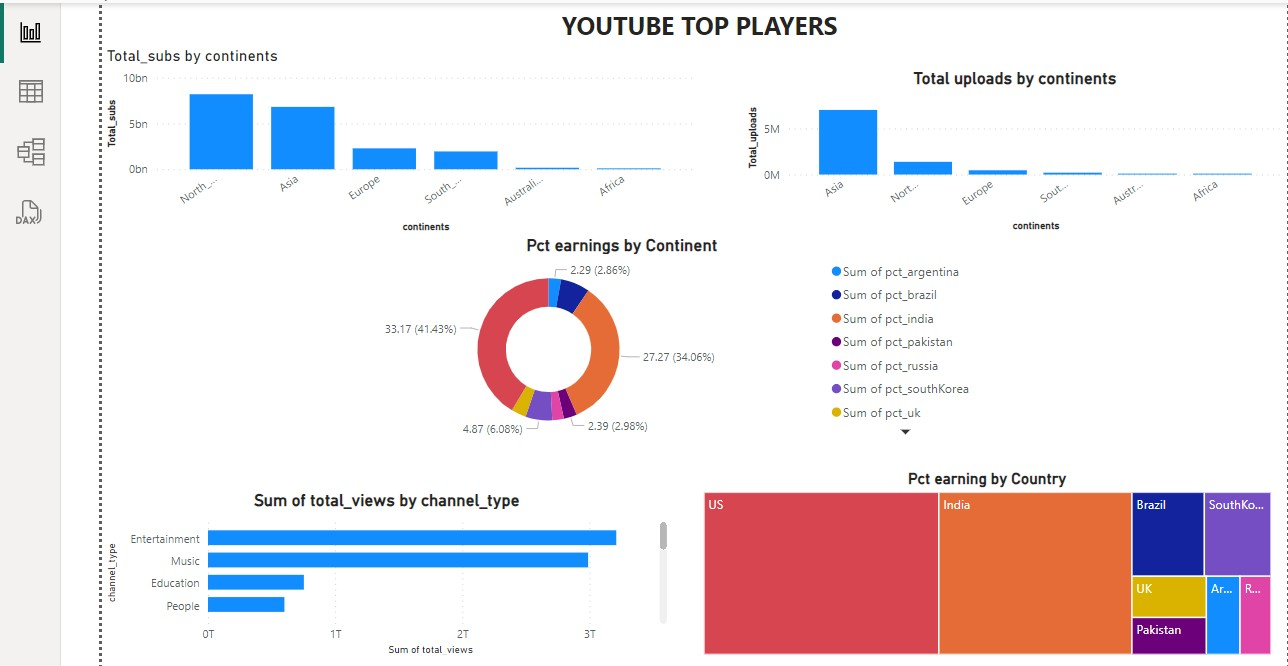

This screenshot's page, from the dashboard's own definition file:
{"tool":"powerbi","page":{"name":"Page 1","canvas":[1280,720],"ordinal":0},"visuals":[{"type":"textbox","box":[9.4,0,1269.9,47.2],"z":0},{"type":"donutChart","title":"Pct earnings by Continent","fields":{"Y":["Sum(continent_percentage.pct_argentina)","Sum(continent_percentage.pct_brazil)","Sum(continent_percentage.pct_india)","Sum(continent_percentage.pct_pakistan)","Sum(continent_percentage.pct_russia)","Sum(continent_percentage.pct_southKorea)","Sum(continent_percentage.pct_uk)","Sum(continent_percentage.pct_us)"]},"box":[172,251.3,778.6,224.9],"z":1000},{"type":"columnChart","title":"Total uploads by continents","fields":{"Category":["top_continent.continents"],"Y":["Sum(top_continent.total_uploads)"]},"box":[691.7,71.8,587.7,179.5],"z":2000},{"type":"columnChart","fields":{"Category":["top_continent.continents"],"Y":["Sum(top_continent.total_subs)"]},"box":[0,47.2,644.4,204.1],"z":3000},{"type":"clusteredBarChart","fields":{"Category":["channel_views.channel_type"],"Y":["Sum(channel_views.total_views)"]},"box":[0,525.4,614.2,181.4],"z":4000},{"type":"treemap","title":"Pct earning by Country","fields":{"Values":["Sum(country_percentage.pct_argentina)","Sum(country_percentage.pct_brazil)","Sum(country_percentage.pct_india)","Sum(country_percentage.pct_pakistan)","Sum(country_percentage.pct_russia)","Sum(country_percentage.pct_southKorea)","Sum(country_percentage.pct_uk)","Sum(country_percentage.pct_us)"]},"box":[644.4,502.7,621.7,204.1],"z":4001}]}

Visuals, with their boxes on the page's 1280x720 design canvas (x1, y1, x2, y2). These are canvas units, not pixel positions in the 1288x666 screenshot, which may show the page scaled, cropped or inside an application window:
textbox: <region>9, 0, 1279, 47</region>
"Pct earnings by Continent" donutChart: <region>172, 251, 951, 476</region>
"Total uploads by continents" columnChart: <region>692, 72, 1279, 251</region>
columnChart - top_continent.continents x Sum(top_continent.total_subs): <region>0, 47, 644, 251</region>
clusteredBarChart - channel_views.channel_type x Sum(channel_views.total_views): <region>0, 525, 614, 707</region>
"Pct earning by Country" treemap: <region>644, 503, 1266, 707</region>
